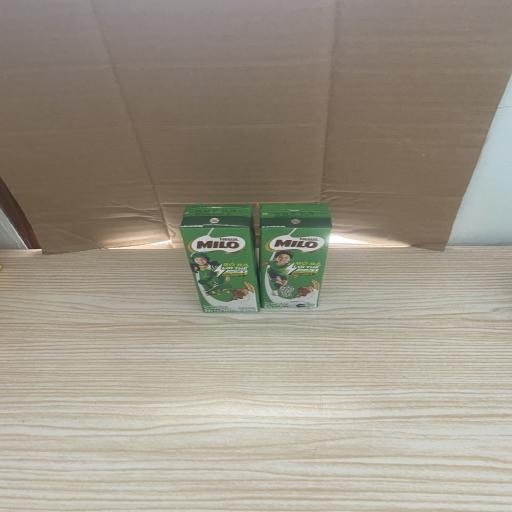milo: (178, 204, 258, 312), (258, 204, 332, 308)
